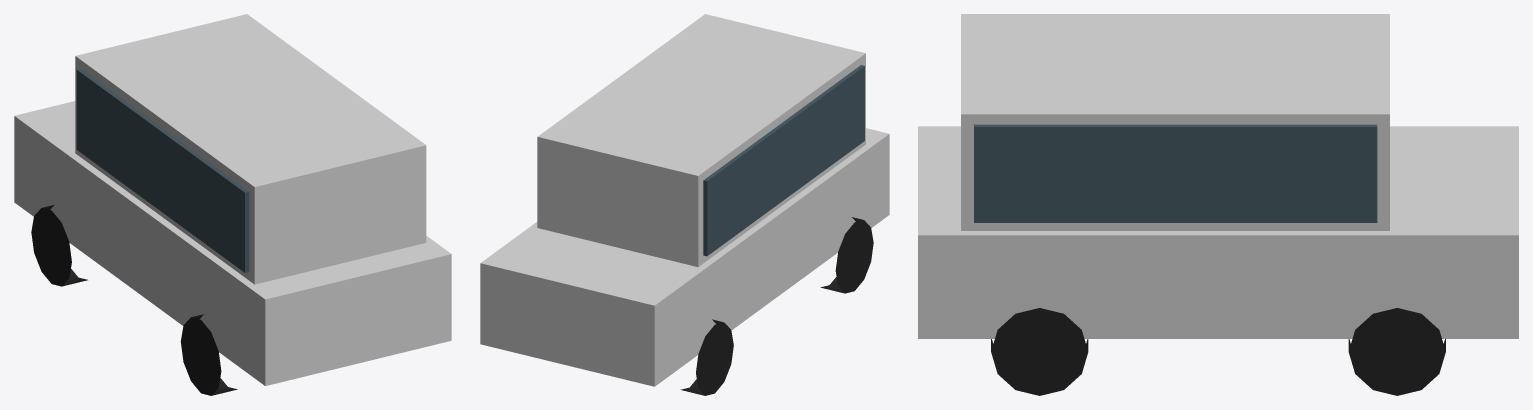
File: van.glb
3 renders of one model, left to right at view 1: azimuth 30°, elevation 25°; view 2: azimuth 150°, elevation 25°; view 3: azimuth 270°, elevation 25°, orthographic. The views are drawn at different scales.
Visible parts, largest first — view 1: cars/van; view 2: cars/van; view 3: cars/van.
Boxes of the visible parts, bbox=[...] form: cars/van: bbox=[14, 14, 451, 395]; cars/van: bbox=[480, 14, 889, 395]; cars/van: bbox=[918, 14, 1518, 395].
Size of the model in its own units: 0.4904 by 0.4952 by 1.
